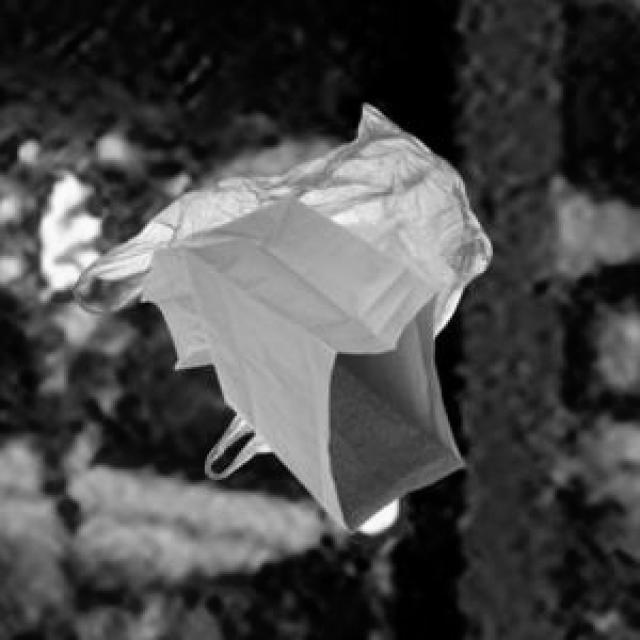paper: (177, 192, 459, 529)
